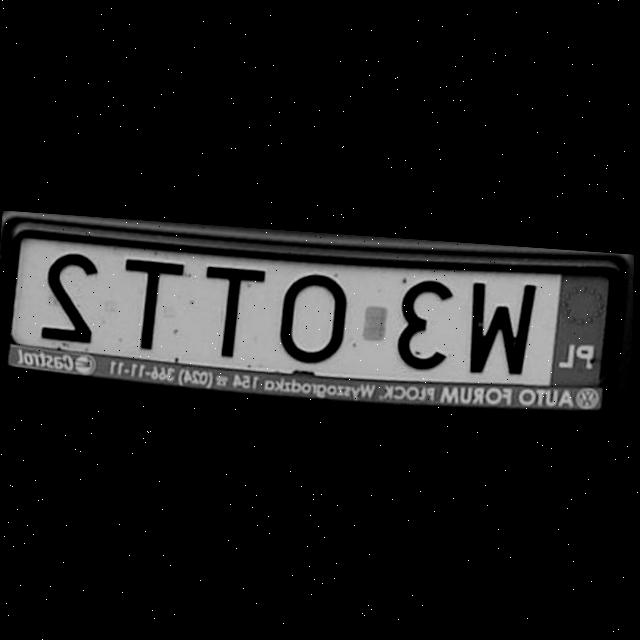license-plates: (9, 238, 609, 387)
